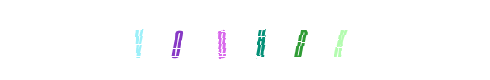0: (174, 0, 254, 80), (204, 0, 284, 80)
D: (221, 0, 301, 80)
H: (216, 0, 296, 80)
K: (260, 0, 340, 80)
V: (137, 0, 217, 80)
